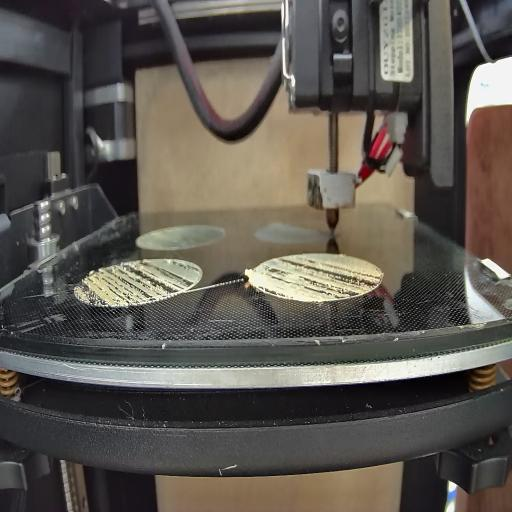under_extrusion: (260, 256, 382, 304), (79, 254, 196, 304)
